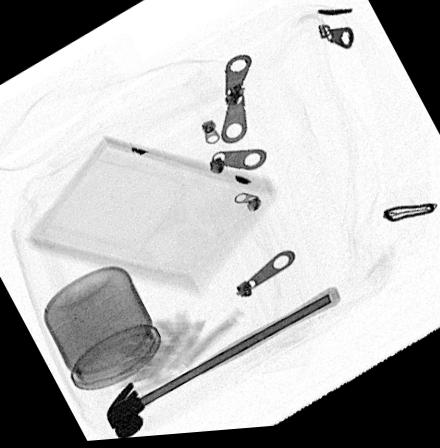Hammer: (106, 291, 341, 440)
